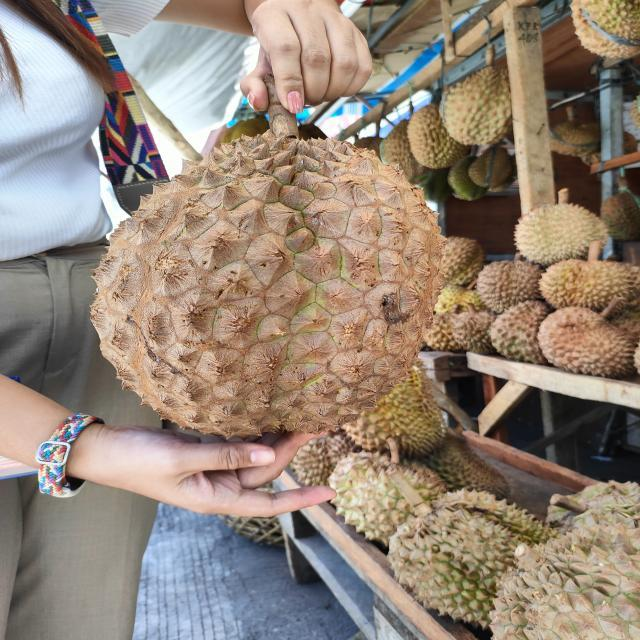mature: (85, 130, 449, 432)
